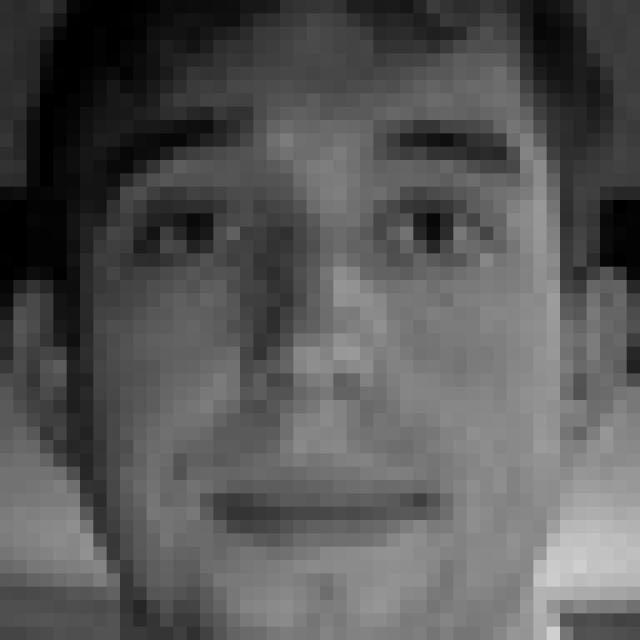neutral: (99, 97, 538, 563)
